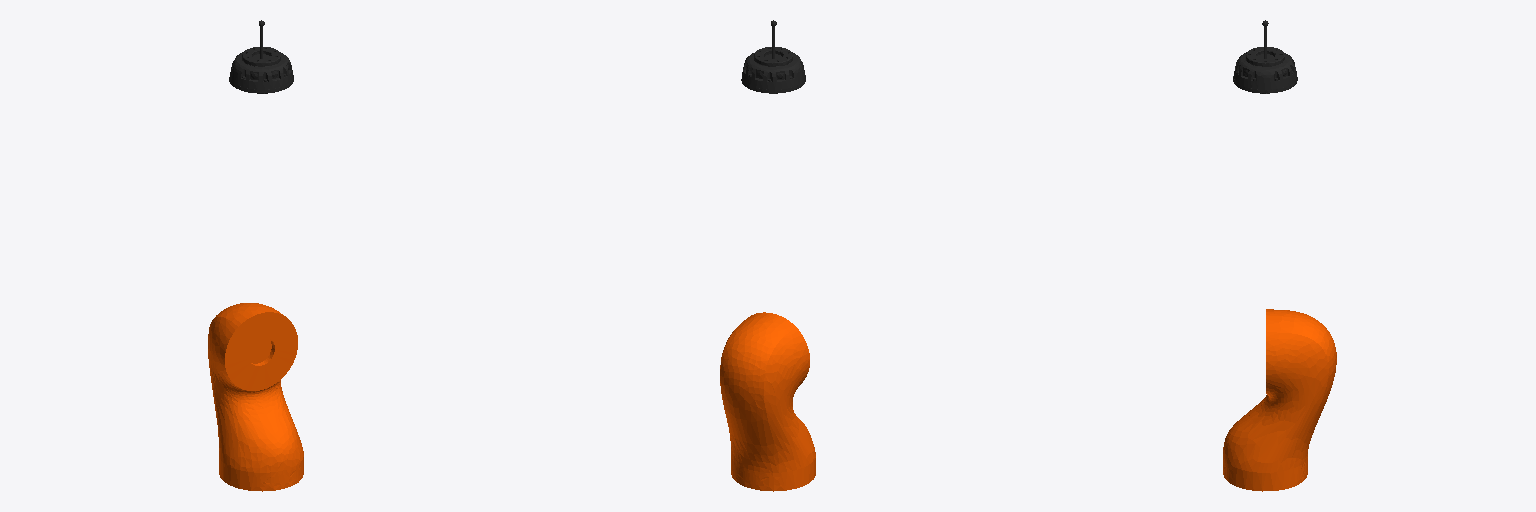
robot.urdf — lbr_iiwa:
<?xml version="1.0" ?>
<!-- ======================================================================= -->
<!-- | This document was autogenerated by xacro from lbr_iiwa.urdf.xacro   | -->
<!-- | Original xacro: https://github.com/rtkg/lbr_iiwa/archive/master.zip | -->
<!-- | EDITING THIS FILE BY HAND IS NOT RECOMMENDED                        | -->
<!-- | Changes ([author]):                                                 | -->
<!-- |   * Removed gazebo tags.                                            | -->
<!-- |   * Removed unused materials.                                       | -->
<!-- |   * Made mesh paths relative.                                       | -->
<!-- |   * Removed material fields from collision segments.                | -->
<!-- |   * Removed the self_collision_checking segment.                    | -->
<!-- |   * Removed transmission segments, since they didn't match the      | -->
<!-- |     convention, will have to added back later.                      | -->
<!-- ======================================================================= -->
<!--LICENSE:                                                                 -->
<!--Copyright (c) 2015, [author] & [author], AASS Research Center,  -->
<!--Orebro University, Sweden                                                -->
<!--All rights reserved.                                                     -->
<!--                                                                         -->
<!--Redistribution and use in source and binary forms, with or without       -->
<!--modification, are permitted provided that the following conditions are   -->
<!--met:                                                                     -->
<!--                                                                         -->
<!--1. Redistributions of source code must retain the above copyright notice,-->
<!--   this list of conditions and the following disclaimer.                 -->
<!--                                                                         -->
<!--2. Redistributions in binary form must reproduce the above copyright     -->
<!--   notice, this list of conditions and the following disclaimer in the   -->
<!--   documentation and/or other materials provided with the distribution.  -->
<!--                                                                         -->
<!--THIS SOFTWARE IS PROVIDED BY THE COPYRIGHT [author] "AS  -->
<!--IS" AND ANY EXPRESS OR IMPLIED WARRANTIES, INCLUDING, BUT NOT LIMITED TO,-->
<!--THE IMPLIED WARRANTIES OF MERCHANTABILITY AND FITNESS FOR A PARTICULAR   -->
<!--PURPOSE ARE DISCLAIMED. IN NO EVENT SHALL THE COPYRIGHT [author]        -->
<!--CONTRIBUTORS BE LIABLE FOR ANY DIRECT, INDIRECT, INCIDENTAL, SPECIAL,    -->
<!--EXEMPLARY, OR CONSEQUENTIAL DAMAGES (INCLUDING, BUT NOT LIMITED TO,      -->
<!--PROCUREMENT OF SUBSTITUTE GOODS OR SERVICES; LOSS OF USE, DATA, OR       -->
<!--PROFITS; OR BUSINESS INTERRUPTION) HOWEVER CAUSED AND ON ANY THEORY OF   -->
<!--LIABILITY, WHETHER IN CONTRACT, STRICT LIABILITY, OR TORT (INCLUDING     -->
<!--NEGLIGENCE OR OTHERWISE) ARISING IN ANY WAY OUT OF THE USE OF THIS       -->
<!--SOFTWARE, EVEN IF ADVISED OF THE POSSIBILITY OF SUCH DAMAGE.             -->
<robot name="lbr_iiwa" xmlns:xacro="http://www.ros.org/wiki/xacro">
  <!-- Import Rviz colors -->
  <material name="Grey">
    <color rgba="0.2 0.2 0.2 1.0"/>
  </material>
  <material name="Orange">
    <color rgba="1.0 0.423529411765 0.0392156862745 1.0"/>
  </material>
  <material name="White">
  <color rgba="1.0 1.0 1.0 1.0"/>  <!-- <color rgba="0.5 0.7 1.0 1.0"/>       -->
</material>

  <!--Import the lbr iiwa macro -->
  <!--Import Transmissions -->
  <!--Include Utilities -->
  <!--The following macros are adapted from the LWR 4 definitions of the RCPRG - https://github.com/RCPRG-ros-pkg/lwr_robot -->
  <!--Little helper macros to define the inertia matrix needed for links.-->
  <!--Cuboid-->
  <!--Cylinder: length is along the y-axis! -->
  <!--lbr-->
  <link name="lbr_iiwa_link_0">
    <inertial>
      <origin rpy="0 0 0" xyz="-0.1 0 0.07"/>
      <!--Increase mass from 5 Kg original to provide a stable base to carry the arm.-->
      <mass value="0.0"/>
      <inertia ixx="0.05" ixy="0" ixz="0" iyy="0.06" iyz="0" izz="0.03"/>
    </inertial>
    <visual>
      <origin rpy="0 0 0" xyz="0 0 0"/>
      <geometry>
        <mesh filename="meshes/link_0.obj"/>
      </geometry>
      <material name="Grey"/>
    </visual>
    <collision>
      <origin rpy="0 0 0" xyz="0 0 0"/>
      <geometry>
        <mesh filename="meshes/link_0.stl"/>
      </geometry>
    </collision>
  </link>

  <!-- joint between link_0 and link_1 -->
  <joint name="lbr_iiwa_joint_1" type="revolute">
    <parent link="lbr_iiwa_link_0"/>
    <child link="lbr_iiwa_link_1"/>
    <origin rpy="0 0 0" xyz="0 0 0.1575"/>
    <axis xyz="0 0 1"/>
    <!-- <limit effort="320" lower="-2.96705972839" upper="2.96705972839" velocity="10"/> -->
    <limit effort="1000" velocity="10"/>
    <dynamics damping="0.5"/>
  </joint>

  <link name="lbr_iiwa_link_1">
    <inertial>
      <origin rpy="0 0 0" xyz="0 -0.03 0.12"/>
      <mass value="4"/>
      <inertia ixx="0.1" ixy="0" ixz="0" iyy="0.09" iyz="0" izz="0.02"/>
    </inertial>
    <visual>
      <origin rpy="0 0 0" xyz="0 0 0"/>
      <geometry>
        <mesh filename="meshes/link_1.obj"/>
      </geometry>
      <material name="White"/>
    </visual>
    <collision>
      <origin rpy="0 0 0" xyz="0 0 0"/>
      <geometry>
        <mesh filename="meshes/link_1.stl"/>
      </geometry>
    </collision>
  </link>

  <!-- joint between link_1 and link_2 -->
  <joint name="lbr_iiwa_joint_2" type="revolute">
    <parent link="lbr_iiwa_link_1"/>
    <child link="lbr_iiwa_link_2"/>
    <origin rpy="1.57079632679   0 3.14159265359" xyz="0 0 0.2025"/>
    <axis xyz="0 0 1"/>
    <!-- <limit effort="320" lower="-2.09439510239" upper="2.09439510239" velocity="10"/> -->
    <limit effort="1000" velocity="10"/>
    <dynamics damping="0.5"/>
  </joint>

  <link name="lbr_iiwa_link_2">
    <inertial>
      <origin rpy="0 0 0" xyz="0.0003 0.059 0.042"/>
      <mass value="4"/>
      <inertia ixx="0.05" ixy="0" ixz="0" iyy="0.018" iyz="0" izz="0.044"/>
    </inertial>
    <visual>
      <origin rpy="0 0 0" xyz="0 0 0"/>
      <geometry>
        <mesh filename="meshes/link_2.obj"/>
      </geometry>
      <material name="White"/>
    </visual>
    <collision>
      <origin rpy="0 0 0" xyz="0 0 0"/>
      <geometry>
        <mesh filename="meshes/link_2.stl"/>
      </geometry>
    </collision>
  </link>

  <!-- joint between link_2 and link_3 -->
  <joint name="lbr_iiwa_joint_3" type="revolute">
    <parent link="lbr_iiwa_link_2"/>
    <child link="lbr_iiwa_link_3"/>
    <origin rpy="1.57079632679 0 3.14159265359" xyz="0 0.2045 0"/>
    <axis xyz="0 0 1"/>
    <!-- <limit effort="176" lower="-2.96705972839" upper="2.96705972839" velocity="10"/> -->
    <limit effort="1000" velocity="10"/>
    <dynamics damping="0.5"/>
  </joint>

  <link name="lbr_iiwa_link_3">
    <inertial>
      <origin rpy="0 0 0" xyz="0 0.03 0.13"/>
      <mass value="3"/>
      <inertia ixx="0.08" ixy="0" ixz="0" iyy="0.075" iyz="0" izz="0.01"/>
    </inertial>
    <visual>
      <origin rpy="1.57079632679 0 0" xyz="0 0 0"/>
      <geometry>
        <mesh filename="meshes/link_3_fixed.obj"/>
      </geometry>
      <material name="Orange"/>
    </visual>
    <collision>
      <origin rpy="0 0 0" xyz="0 0 0"/>
      <geometry>
        <mesh filename="meshes/link_3.stl"/>
      </geometry>
    </collision>
  </link>

  <!-- joint between link_3 and link_4 -->
  <joint name="lbr_iiwa_joint_4" type="revolute">
    <parent link="lbr_iiwa_link_3"/>
    <child link="lbr_iiwa_link_4"/>
    <origin rpy="1.57079632679 0 0" xyz="0 0 0.2155"/>
    <axis xyz="0 0 1"/>
    <!-- <limit effort="176" lower="-2.09439510239" upper="2.09439510239" velocity="10"/> -->
    <limit effort="1000" velocity="10"/>
    <dynamics damping="0.5"/>
  </joint>

  <link name="lbr_iiwa_link_4">
    <inertial>
      <origin rpy="0 0 0" xyz="0 0.067 0.034"/>
      <mass value="2.7"/>
      <inertia ixx="0.03" ixy="0" ixz="0" iyy="0.01" iyz="0" izz="0.029"/>
    </inertial>
    <visual>
      <origin rpy="0 0 0" xyz="0 0 0"/>
      <geometry>
        <mesh filename="meshes/link_4.obj"/>
      </geometry>
      <material name="White"/>
    </visual>
    <collision>
      <origin rpy="0 0 0" xyz="0 0 0"/>
      <geometry>
        <mesh filename="meshes/link_4.stl"/>
      </geometry>
    </collision>
  </link>

  <!-- joint between link_4 and link_5 -->
  <joint name="lbr_iiwa_joint_5" type="revolute">
    <parent link="lbr_iiwa_link_4"/>
    <child link="lbr_iiwa_link_5"/>
    <origin rpy="-1.57079632679 3.14159265359 0" xyz="0 0.1845 0"/>
    <axis xyz="0 0 1"/>
    <!-- <limit effort="110" lower="-2.96705972839" upper="2.96705972839" velocity="10"/> -->
    <limit effort="1000" velocity="10"/>
    <dynamics damping="0.5"/>
  </joint>

  <link name="lbr_iiwa_link_5">
    <inertial>
      <origin rpy="0 0 0" xyz="0.0001 0.021 0.076"/>
      <mass value="1.7"/>
      <inertia ixx="0.02" ixy="0" ixz="0" iyy="0.018" iyz="0" izz="0.005"/>
    </inertial>
    <visual>
      <origin rpy="0 0 0" xyz="0 0 0"/>
      <geometry>
        <mesh filename="meshes/link_5.obj"/>
      </geometry>
      <material name="White"/>
    </visual>
    <collision>
      <origin rpy="0 0 0" xyz="0 0 0"/>
      <geometry>
        <mesh filename="meshes/link_5.stl"/>
      </geometry>
    </collision>
  </link>

  <!-- joint between link_5 and link_6 -->
  <joint name="lbr_iiwa_joint_6" type="revolute">
    <parent link="lbr_iiwa_link_5"/>
    <child link="lbr_iiwa_link_6"/>
    <origin rpy="1.57079632679 0 0" xyz="0 0 0.2155"/>
    <axis xyz="0 0 1"/>
    <!-- <limit effort="40" lower="-2.09439510239" upper="2.09439510239" velocity="10"/> -->
    <limit effort="1000" velocity="10"/>
    <dynamics damping="0.5"/>
  </joint>

  <link name="lbr_iiwa_link_6">
    <inertial>
      <origin rpy="0 0 0" xyz="0 0.0006 0.0004"/>
      <mass value="1.8"/>
      <inertia ixx="0.005" ixy="0" ixz="0" iyy="0.0036" iyz="0" izz="0.0047"/>
    </inertial>
    <visual>
      <origin rpy="0 0 0" xyz="0 0 0"/>
      <geometry>
        <mesh filename="meshes/link_6.obj"/>
      </geometry>
      <material name="Orange"/>
    </visual>
    <collision>
      <origin rpy="0 0 0" xyz="0 0 0"/>
      <geometry>
        <mesh filename="meshes/link_6.stl"/>
      </geometry>
    </collision>
  </link>

  <!-- joint between link_6 and link_7 -->
  <joint name="lbr_iiwa_joint_7" type="revolute">
    <parent link="lbr_iiwa_link_6"/>
    <child link="lbr_iiwa_link_7"/>
    <origin rpy="-1.57079632679 3.14159265359 0" xyz="0 0.081 0"/>
    <axis xyz="0 0 1"/>
    <!-- <limit effort="40" lower="-3.05432619099" upper="3.05432619099" velocity="10"/> -->
    <limit effort="1000" velocity="10"/>
    <dynamics damping="0.5"/>
  </joint>

  <link name="lbr_iiwa_link_7">
    <inertial>
      <origin rpy="0 0 0" xyz="0 0 0.02"/>
      <mass value="2.0"/> <!-- <mass value="0.3"/> -->
      <inertia ixx="0.005" ixy="0" ixz="0" iyy="0.0036" iyz="0" izz="0.0047"/> <!-- <inertia ixx="0.001" ixy="0" ixz="0" iyy="0.001" iyz="0" izz="0.001"/> -->
    </inertial>
    <visual>
      <origin rpy="0 0 0" xyz="0 0 0"/>
      <geometry>
        <mesh filename="meshes/link_7_ext.obj"/>
      </geometry>
      <material name="Grey"/>
    </visual>
    <collision>
      <origin rpy="0 0 0" xyz="0 0 0"/>
      <geometry>
        <mesh filename="meshes/link_7_ext.stl"/>
      </geometry>
    </collision>
  </link>
  
</robot>

--- What the picture shows (computed from the rendered views, not written in the file) ---
3 views of the same robot in one strip: view 1: azimuth 30°, elevation 25°; view 2: azimuth 150°, elevation 25°; view 3: azimuth 270°, elevation 25° (orthographic).
Robot: lbr_iiwa — 8 links, 7 joints (7 revolute); root link lbr_iiwa_link_0; default pose: all joints at 0.
Links seen in each view (by area): view 1: lbr_iiwa_link_3, lbr_iiwa_link_7; view 2: lbr_iiwa_link_3, lbr_iiwa_link_7; view 3: lbr_iiwa_link_3, lbr_iiwa_link_7.
Link boxes in pixels (x1,y1,x2,y2): lbr_iiwa_link_3: (208,303,303,491); lbr_iiwa_link_7: (229,20,293,93); lbr_iiwa_link_3: (720,312,815,491); lbr_iiwa_link_7: (741,20,805,93); lbr_iiwa_link_3: (1223,309,1336,491); lbr_iiwa_link_7: (1233,20,1297,93).
Size in the robot's own frame: 0.1361 by 0.1826 by 0.8115 metres.
2 mesh visuals loaded from 8 distinct referenced files (2 OBJ); not drawn: 6 (reference not matched to a file when rendering).